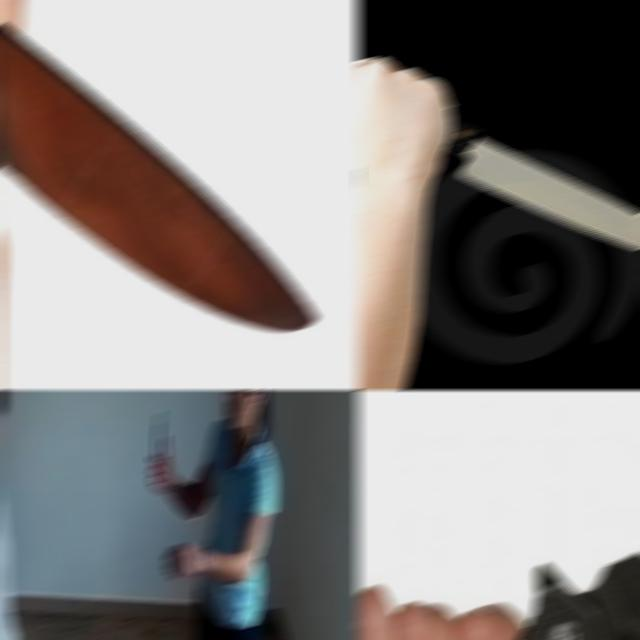Knife: (0, 24, 316, 329), (447, 125, 640, 248), (152, 412, 166, 458)
Knife_Handle: (0, 0, 360, 390), (356, 24, 640, 272), (146, 410, 172, 490)
